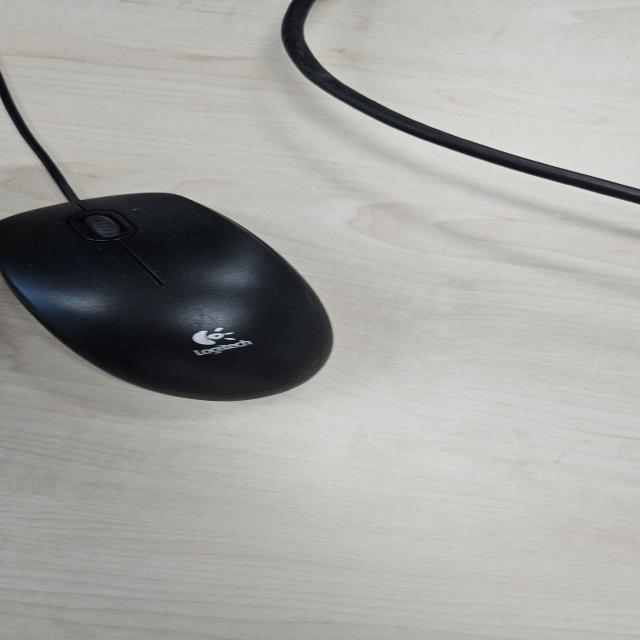Mouse: (1, 190, 336, 402)
